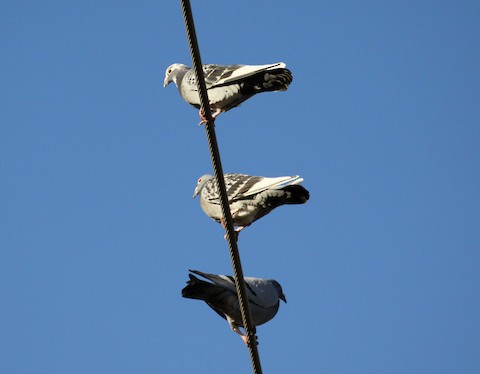pigeon: (160, 55, 299, 127), (192, 168, 319, 241), (177, 267, 296, 344)
